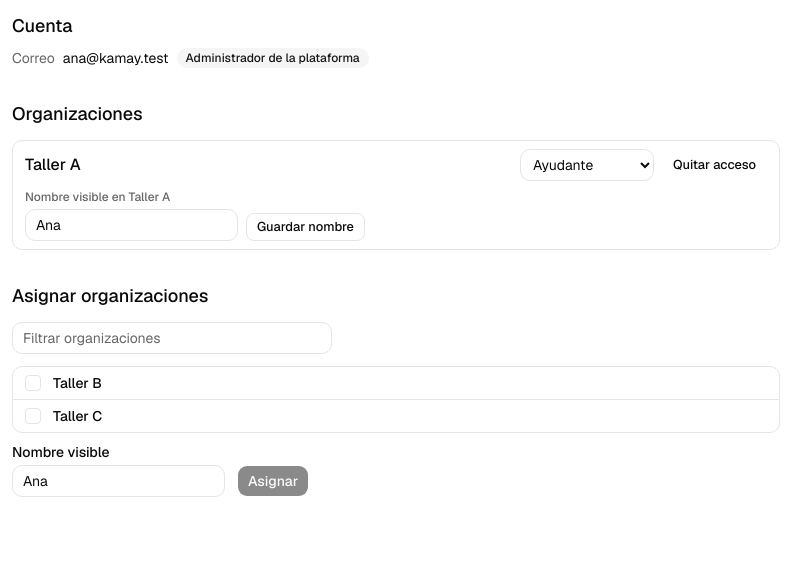
Test: UserDetail › asigna dos organizaciones en un paso, con un rol por cada una
This screenshot has width=797, height=566.
Click the checkbox named "Taller B" next to "Taller B" at (33, 383), box [25, 375, 41, 391]
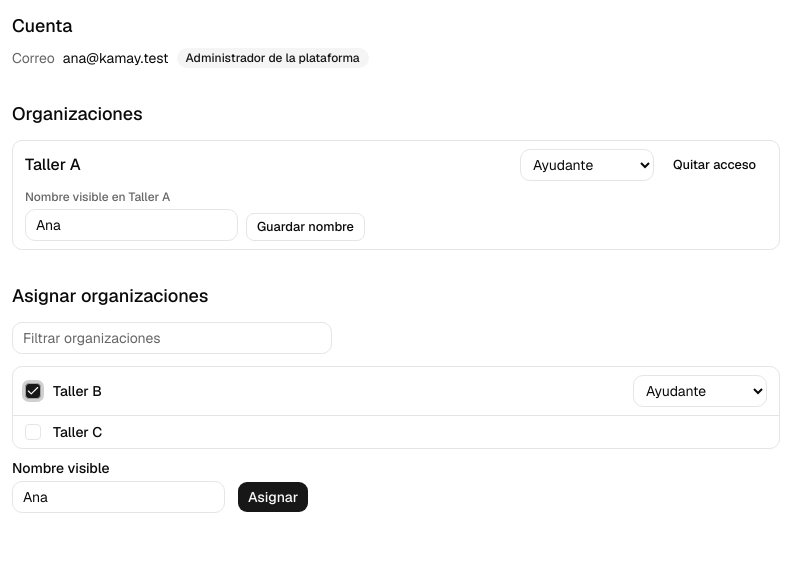
Select "Dueña o dueño" in the dropdown named "Rol en Taller B" at (700, 391), box [633, 375, 767, 407]
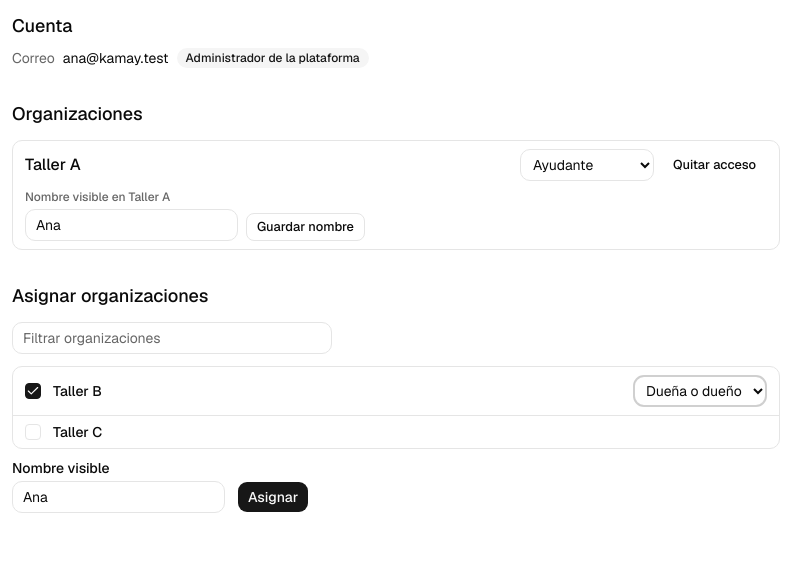
Click the checkbox named "Taller C" next to "Taller C" at (33, 432), box [25, 424, 41, 440]
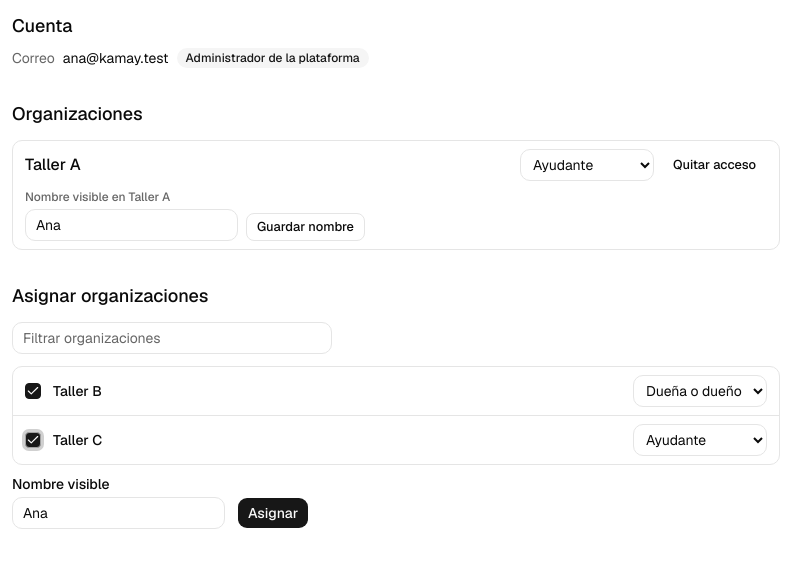
Click the button "Asignar" at (273, 513), box [237, 497, 309, 529]
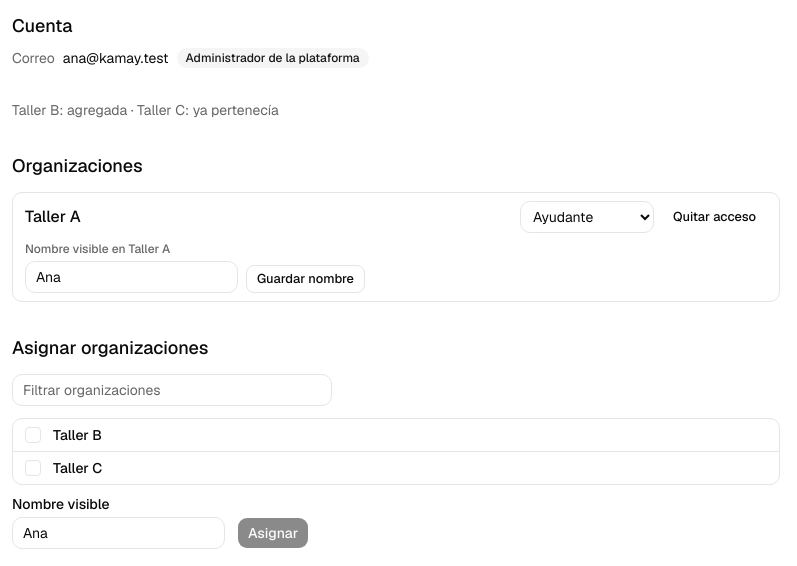
Result: the message with test id "assignment-report" reads "Taller B: agregada · Taller C: ya pertenecía" at [12, 101, 279, 119]
